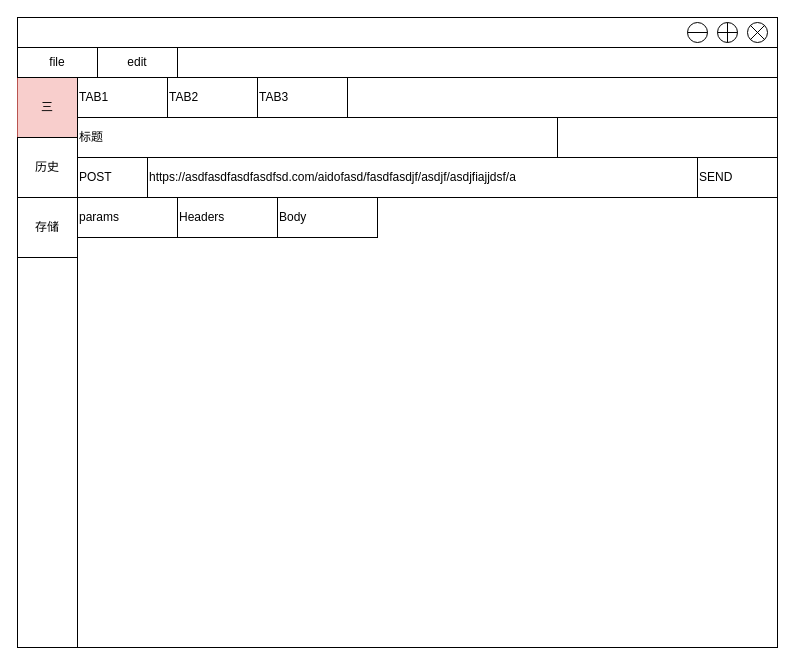
This 795x665 diagram has some shape labels left out. The box of each missing label's shape, as (x1, y1, x2, y2) in pixels:
Http Call: (16, 16, 778, 48)
环境: (556, 116, 778, 158)
